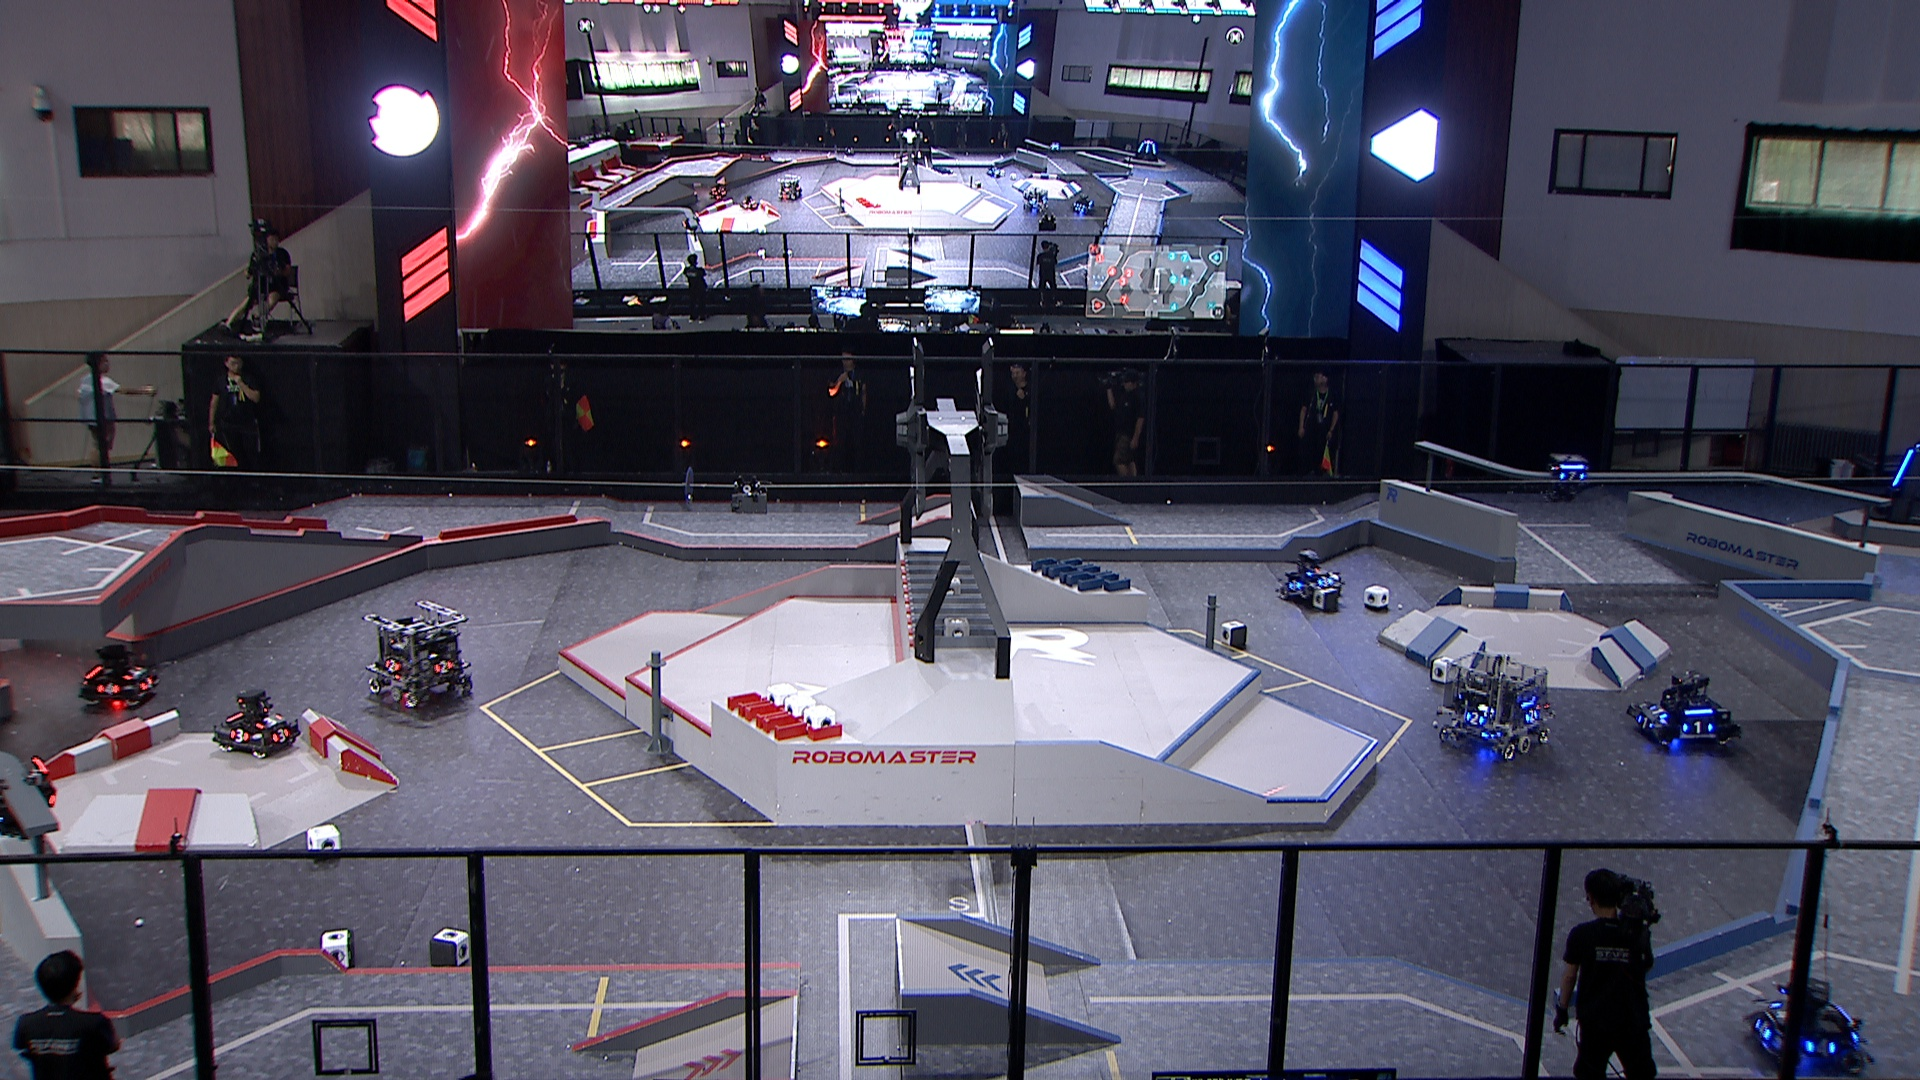armor: (1892, 450, 1915, 488), (1804, 1039, 1842, 1058), (1680, 719, 1714, 737), (1754, 1019, 1774, 1043), (272, 727, 294, 746), (255, 713, 285, 728), (228, 728, 253, 745), (1557, 469, 1586, 484), (1648, 703, 1671, 721), (1636, 713, 1655, 733), (433, 659, 455, 675), (120, 665, 142, 680), (98, 683, 121, 698), (1524, 707, 1542, 727), (1466, 709, 1485, 727), (384, 659, 404, 675), (1286, 579, 1305, 593), (138, 676, 156, 692), (1316, 576, 1335, 589)
base: (1866, 439, 1920, 531)
car: (1743, 975, 1874, 1079), (1437, 654, 1556, 760), (367, 603, 472, 713), (1625, 670, 1743, 752), (212, 688, 301, 760), (82, 644, 160, 707), (1276, 550, 1344, 605)
ignore: (1022, 187, 1050, 214), (775, 174, 803, 200), (1134, 138, 1160, 164), (1069, 194, 1096, 216), (680, 210, 702, 233), (740, 194, 760, 214), (709, 181, 728, 202), (986, 164, 1004, 177), (1050, 142, 1062, 156)
watcher: (1542, 454, 1590, 505)
